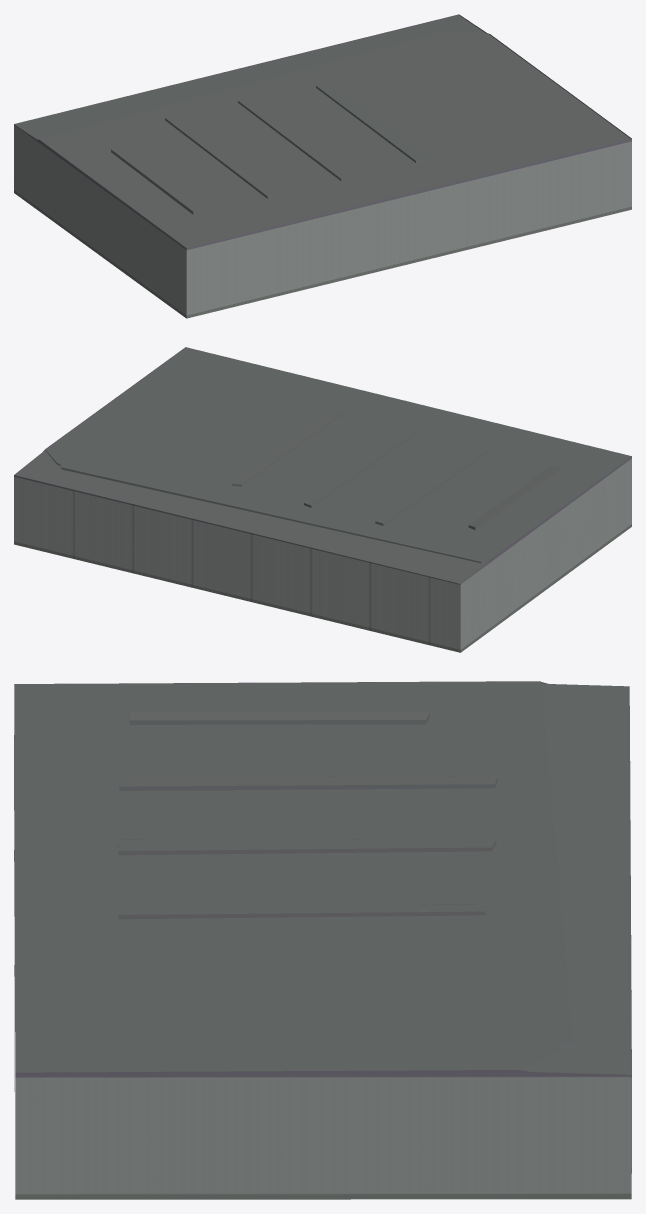
3 renders of one model, top to bottom at view 1: azimuth 30°, elevation 25°; view 2: azimuth 150°, elevation 25°; view 3: azimuth 270°, elevation 25°, orthographic. The views are drawn at different scales.
Visible parts, largest first — view 1: 0363100012191215; view 2: 0363100012191215; view 3: 0363100012191215.
Boxes of the visible parts, <box> form: 0363100012191215: <box>14,14,631,318</box>; 0363100012191215: <box>14,347,631,652</box>; 0363100012191215: <box>14,681,631,1199</box>.
Size of the model in its own units: 90.5 by 14.43 by 60.59.
Materials: 2 (1 with a texture image).
